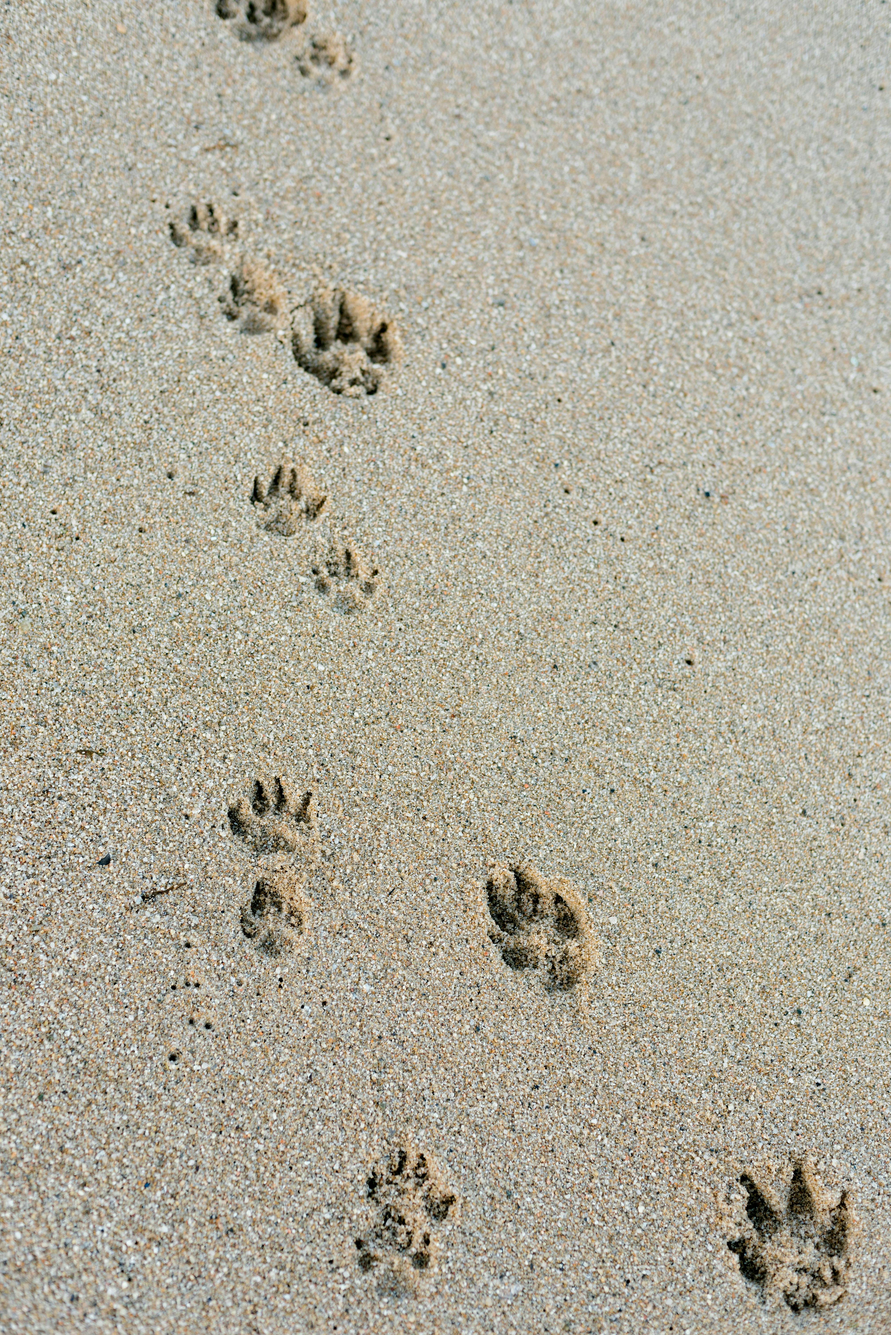animal_foot_print: (728, 1158, 857, 1311), (355, 1143, 458, 1291), (486, 864, 599, 991), (291, 289, 401, 397), (228, 777, 318, 860), (251, 460, 327, 537), (241, 871, 309, 957), (220, 257, 290, 334), (311, 536, 379, 613), (163, 970, 217, 1065), (169, 202, 239, 264), (215, 0, 308, 41), (297, 33, 358, 85)
